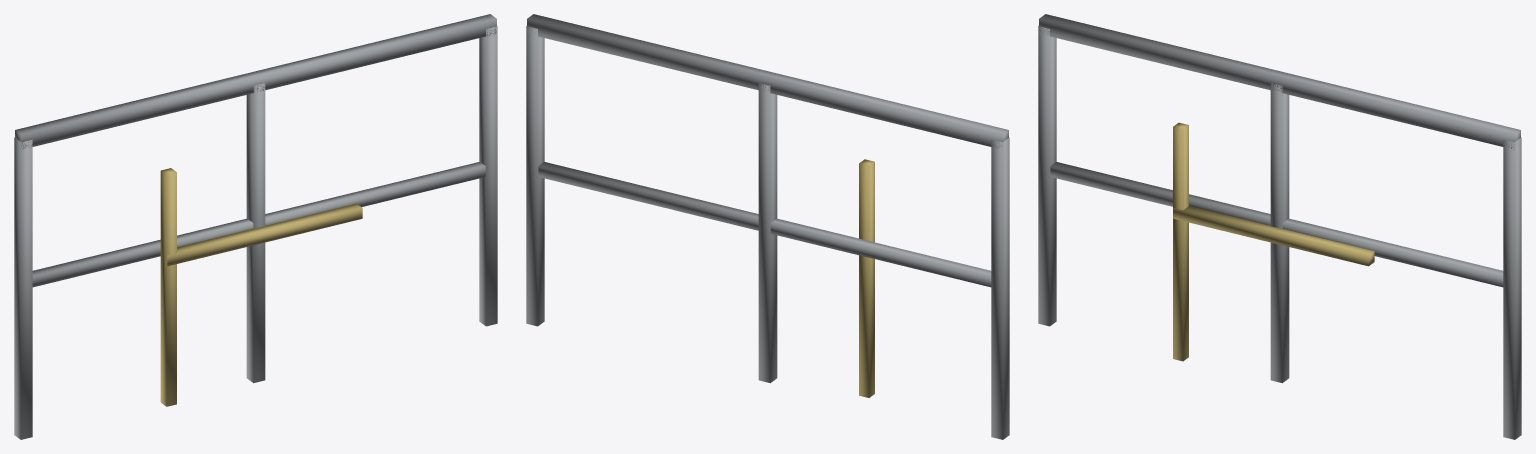
File: residential_gate_l180_h110.glb
The picture shows the model from 3 angles, left to right: view 1: azimuth 30°, elevation 25°; view 2: azimuth 150°, elevation 25°; view 3: azimuth 330°, elevation 25°; orthographic projection.
Parts seen in each view (by area): view 1: world; view 2: world; view 3: world.
Part boxes in pixels (x1,y1,x2,y2): world: (14,14,497,439); world: (526,14,1009,439); world: (1038,14,1521,439).
Size of the model in its own units: 1.85 by 1.13 by 0.0825.
